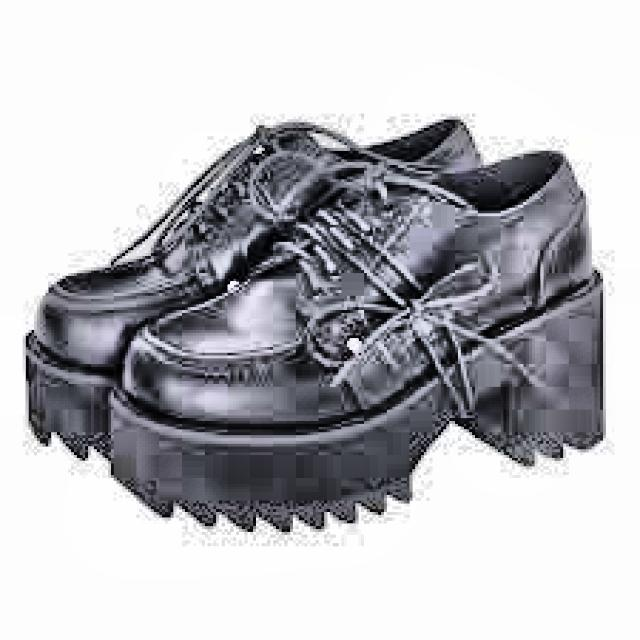shoes: (12, 95, 626, 567)
